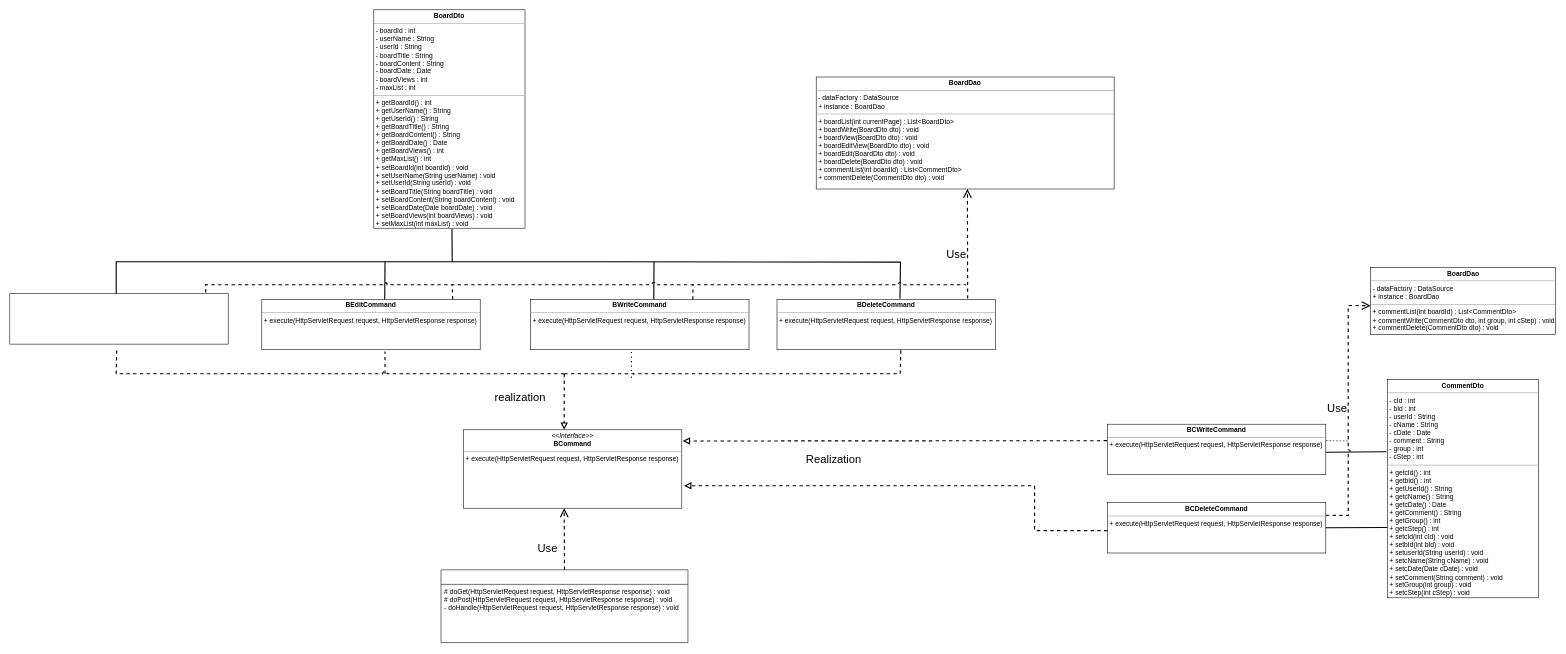
This 1566x654 diagram has some shape labels left out. Here are the shapes that lost their labels. From the top down, the box of each, then its label:
(9, 293, 228, 344): BListCommand + execute(HttpServletRequest request, HttpServletResponse response)
(440, 569, 688, 643): FrontController
